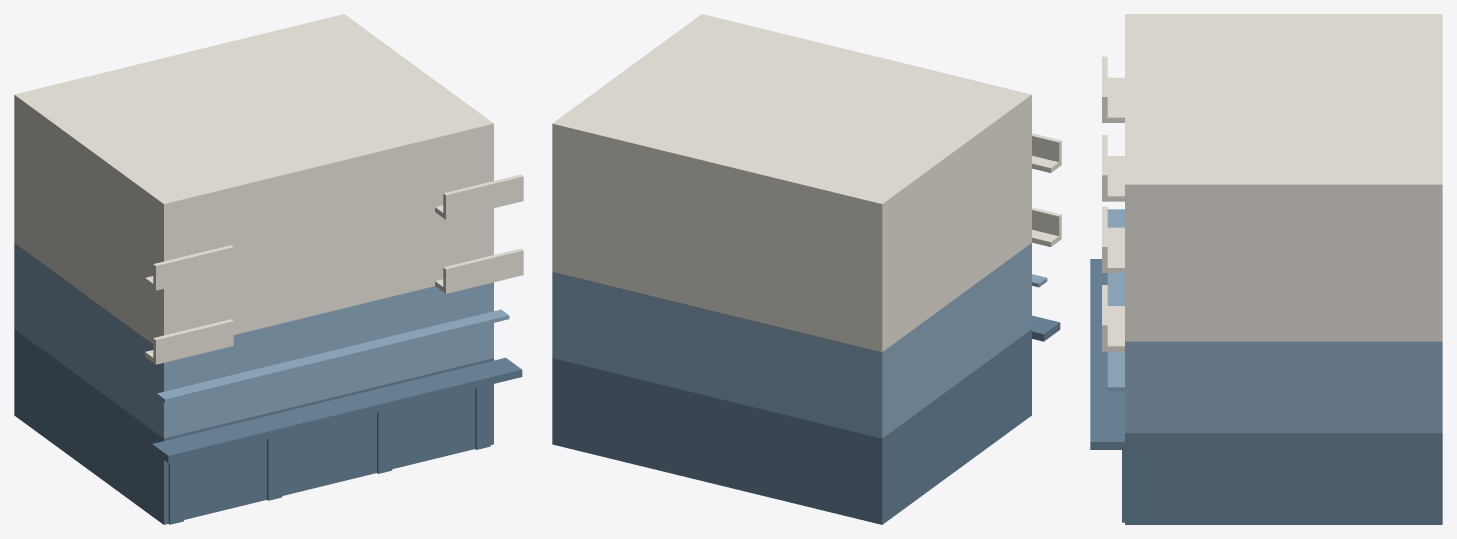
Rendered from parcel_2.glb.
The picture shows the model from 3 angles, left to right: view 1: azimuth 30°, elevation 25°; view 2: azimuth 150°, elevation 25°; view 3: azimuth 270°, elevation 25°; orthographic projection. The views are drawn at different scales.
Parts seen in each view (by area): view 1: Floor_3, Floor_0, Floor_1, Floor_2; view 2: Floor_3, Floor_0, Floor_1, Floor_2; view 3: Floor_3, Floor_0, Floor_1, Floor_2.
Part boxes in pixels (<box>): Floor_3: <box>14,14,523,290</box>; Floor_0: <box>14,329,522,524</box>; Floor_1: <box>14,243,509,438</box>; Floor_2: <box>14,169,523,364</box>; Floor_3: <box>552,14,1061,277</box>; Floor_0: <box>552,315,1060,524</box>; Floor_1: <box>552,243,1047,438</box>; Floor_2: <box>552,169,1061,351</box>; Floor_3: <box>1102,14,1442,272</box>; Floor_0: <box>1090,259,1442,524</box>; Floor_1: <box>1107,209,1442,433</box>; Floor_2: <box>1102,135,1442,351</box>.
Size of the model in its own units: 15.6 by 13 by 12.2.
